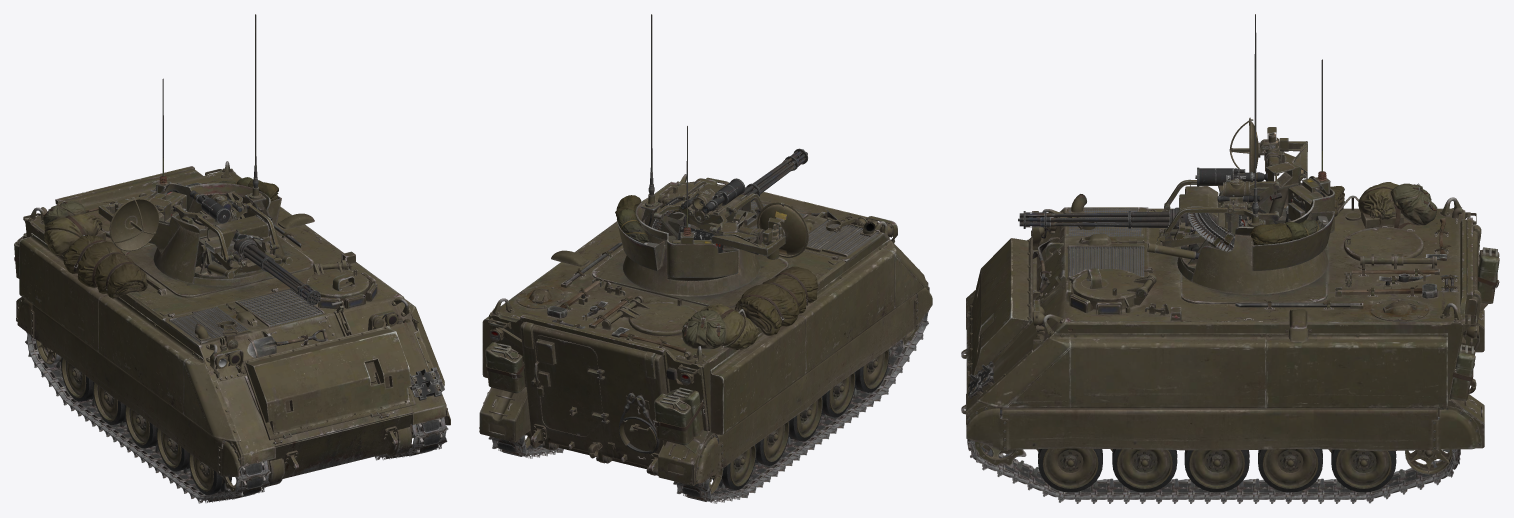
3 views of the same model, side by side, from view 1: azimuth 30°, elevation 25°; view 2: azimuth 150°, elevation 25°; view 3: azimuth 270°, elevation 25° (orthographic). The views are drawn at different scales.
Parts seen in each view (by area): view 1: Object_9, Object_12, Object_13, Object_17, Object_14, Object_10, Object_4, Object_6, Object_8, Object_15, Object_5, Object_11 (+2 smaller); view 2: Object_9, Object_12, Object_13, Object_17, Object_8, Object_10, Object_4, Object_14, Object_15, Object_6, Object_16, Object_5 (+1 smaller); view 3: Object_12, Object_9, Object_13, Object_11, Object_17, Object_5, Object_8, Object_14, Object_6, Object_15, Object_16, Object_2 (+2 smaller).
Part boxes in pixels (bbox=[...]): Object_9: bbox=[16, 161, 446, 486]; Object_12: bbox=[14, 182, 450, 442]; Object_13: bbox=[16, 201, 402, 476]; Object_17: bbox=[149, 165, 284, 286]; Object_14: bbox=[109, 197, 320, 305]; Object_10: bbox=[36, 339, 265, 496]; Object_4: bbox=[25, 332, 270, 503]; Object_6: bbox=[170, 289, 322, 343]; Object_8: bbox=[100, 193, 369, 378]; Object_15: bbox=[158, 190, 247, 225]; Object_5: bbox=[375, 417, 448, 460]; Object_11: bbox=[220, 329, 442, 454]; Object_9: bbox=[479, 174, 928, 485]; Object_12: bbox=[482, 185, 926, 453]; Object_13: bbox=[479, 177, 932, 484]; Object_17: bbox=[615, 172, 760, 296]; Object_8: bbox=[531, 178, 721, 436]; Object_10: bbox=[702, 325, 919, 493]; Object_4: bbox=[673, 309, 929, 503]; Object_14: bbox=[678, 148, 808, 259]; Object_15: bbox=[653, 178, 745, 233]; Object_6: bbox=[750, 201, 878, 255]; Object_16: bbox=[711, 222, 785, 256]; Object_5: bbox=[488, 435, 563, 458]; Object_12: bbox=[966, 212, 1499, 450]; Object_9: bbox=[961, 194, 1487, 448]; Object_13: bbox=[1032, 182, 1482, 451]; Object_11: bbox=[968, 222, 1452, 492]; Object_17: bbox=[1177, 171, 1334, 294]; Object_5: bbox=[967, 410, 1460, 503]; Object_8: bbox=[1033, 227, 1481, 492]; Object_14: bbox=[1018, 117, 1288, 259]; Object_6: bbox=[1068, 208, 1144, 276]; Object_15: bbox=[1195, 167, 1279, 220]; Object_16: bbox=[1265, 141, 1307, 187]; Object_2: bbox=[1187, 213, 1235, 251].
Size of the model in its own units: 2.97 by 4.72 by 5.09.
Materials: 11 (11 with a texture image).
